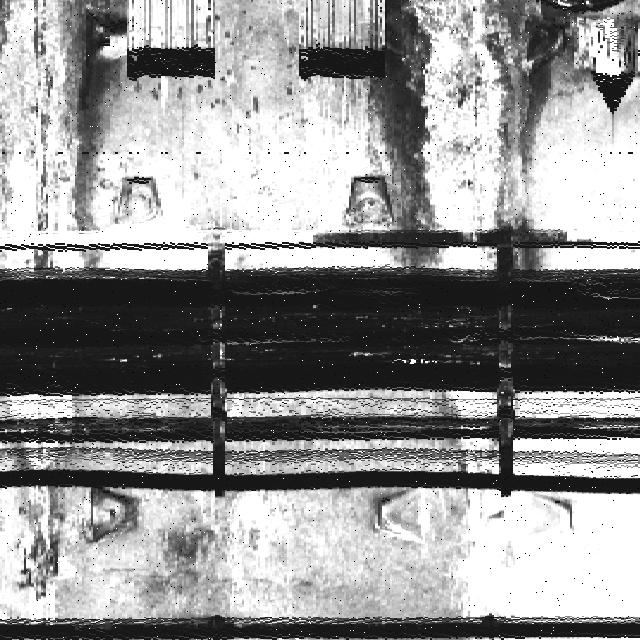leakage: (359, 0, 595, 276), (32, 0, 133, 265), (1, 392, 86, 618)
